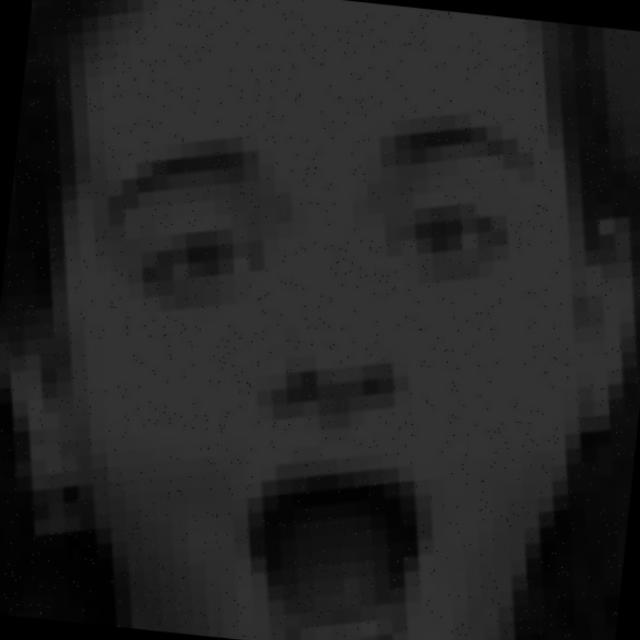Surprised: (26, 74, 631, 640)
